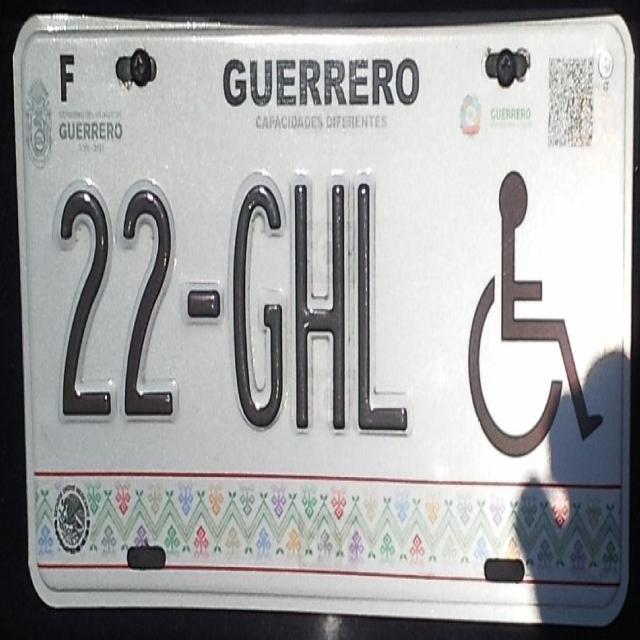placa: (17, 172, 447, 447)
